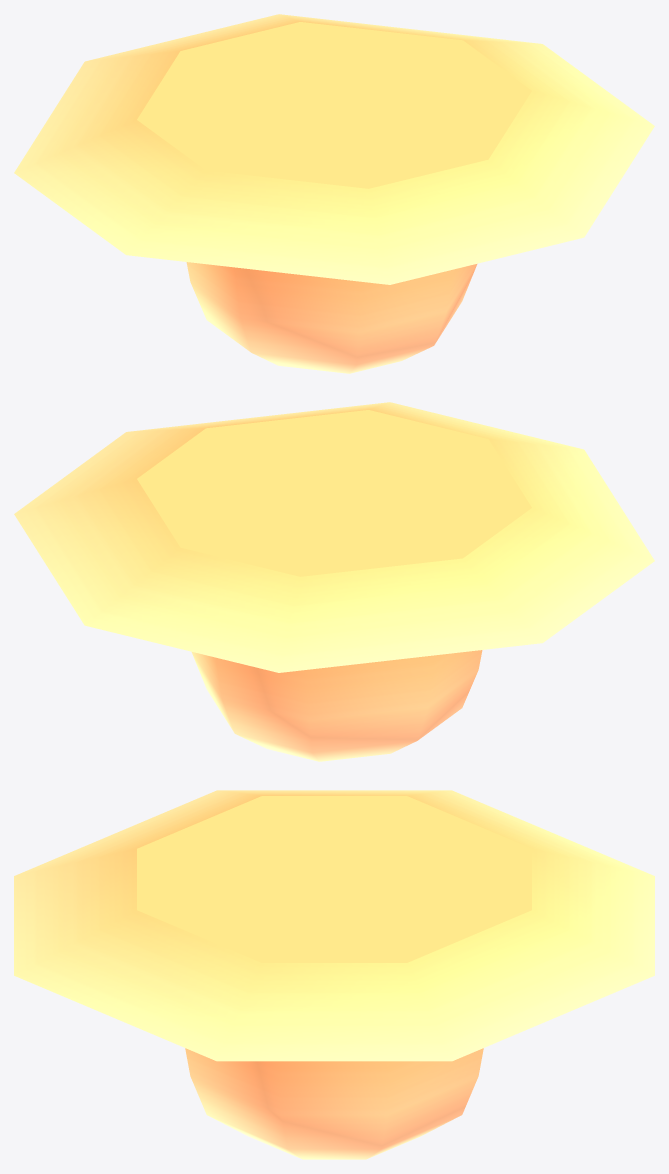
File: wood_pommel_152_004.glb
3 renders of one model, top to bottom at view 1: azimuth 30°, elevation 25°; view 2: azimuth 150°, elevation 25°; view 3: azimuth 270°, elevation 25°, orthographic. The views are drawn at different scales.
Visible parts, largest first — view 1: wood_pommel_152.004; view 2: wood_pommel_152.004; view 3: wood_pommel_152.004.
Part boxes in pixels (x1=…): wood_pommel_152.004: x1=14, y1=14, x2=654, y2=373; wood_pommel_152.004: x1=14, y1=402, x2=654, y2=761; wood_pommel_152.004: x1=14, y1=790, x2=654, y2=1159.
Bounding box in the file's own units: 3.64 × 1.6 × 3.64.
Materials: 1 (1 with a texture image).
